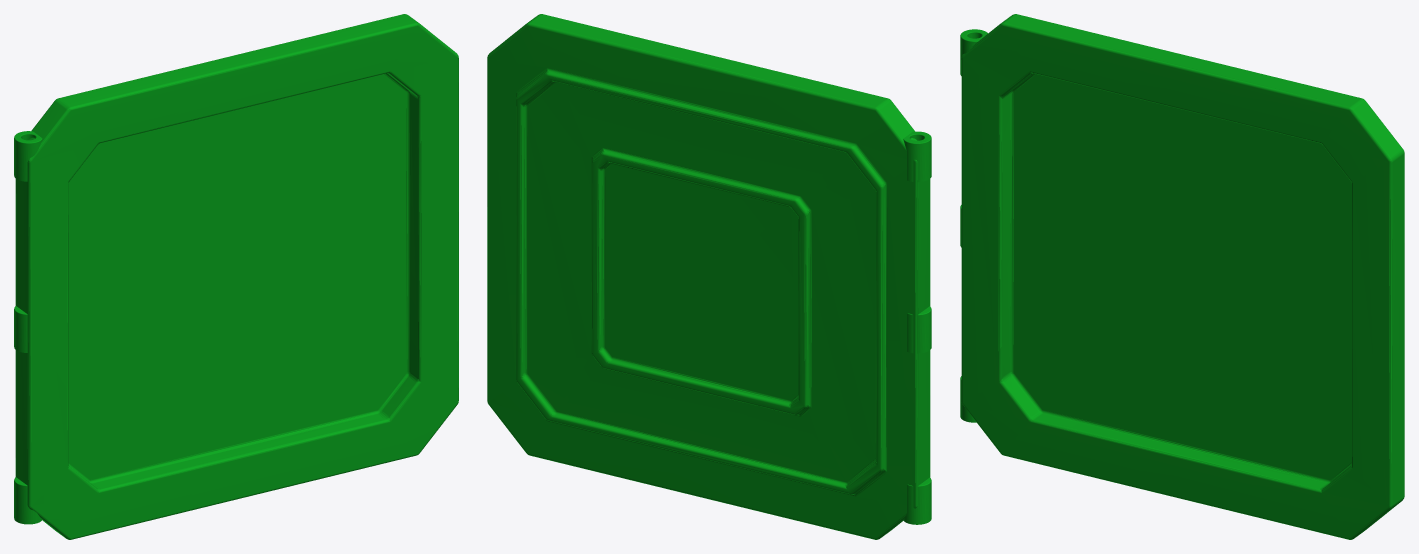
3 renders of one model, left to right at view 1: azimuth 30°, elevation 25°; view 2: azimuth 150°, elevation 25°; view 3: azimuth 330°, elevation 25°, orthographic.
Visible parts, largest first — view 1: __articraft_commit_0001_0000, __articraft_commit_0001_0003, __articraft_commit_0001_0001, __articraft_commit_0001_0002; view 2: __articraft_commit_0001_0000, __articraft_commit_0001_0003, __articraft_commit_0001_0001, __articraft_commit_0001_0002; view 3: __articraft_commit_0001_0000.
Boxes of the visible parts, x1,y1,x2,y2 form: __articraft_commit_0001_0000: [15, 14, 458, 539]; __articraft_commit_0001_0003: [14, 131, 42, 181]; __articraft_commit_0001_0001: [14, 477, 42, 524]; __articraft_commit_0001_0002: [14, 306, 27, 352]; __articraft_commit_0001_0000: [487, 14, 930, 539]; __articraft_commit_0001_0003: [903, 131, 931, 182]; __articraft_commit_0001_0001: [903, 477, 931, 524]; __articraft_commit_0001_0002: [907, 306, 931, 353]; __articraft_commit_0001_0000: [961, 14, 1404, 539].
Size of the model in its own units: 0.5065 by 0.48 by 0.035.
